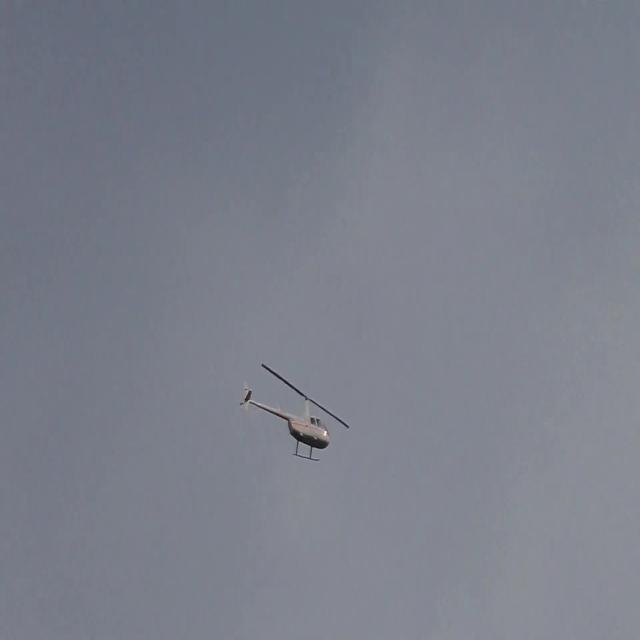CIV_HELO: (243, 378, 332, 462)
